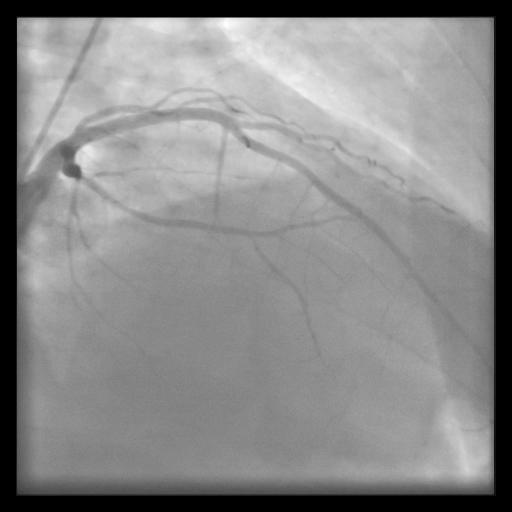Stenosis: (65, 167, 99, 192)
